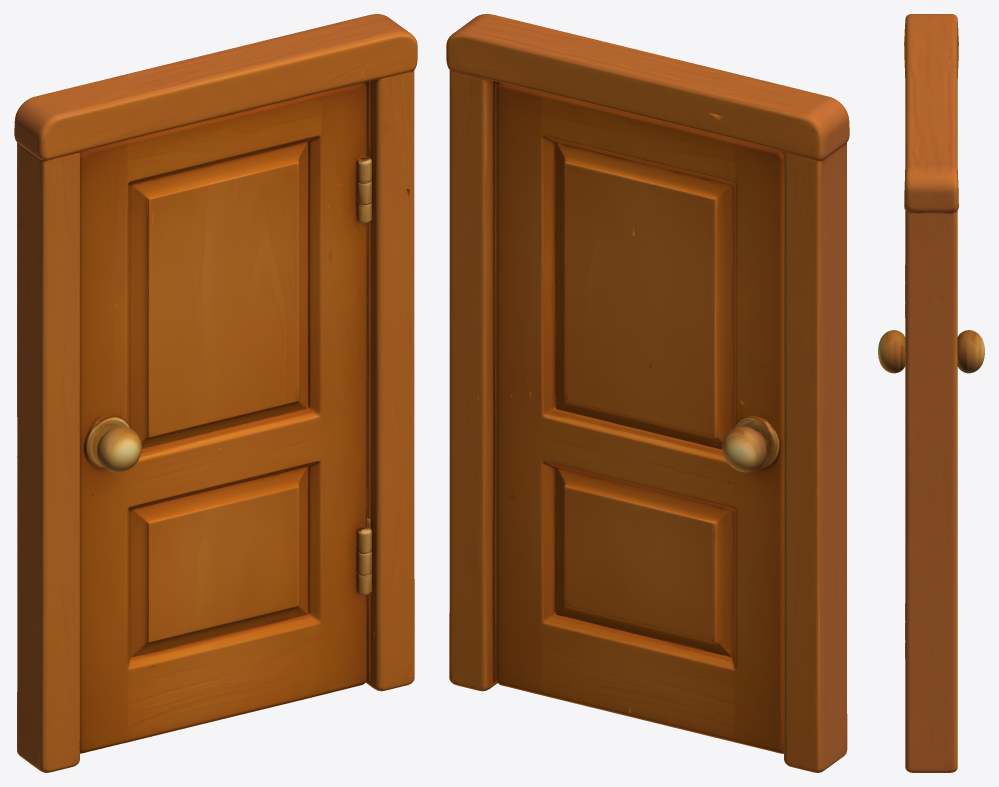
Rendered from room-door.glb.
3 renders of one model, left to right at view 1: azimuth 30°, elevation 25°; view 2: azimuth 150°, elevation 25°; view 3: azimuth 270°, elevation 25°, orthographic. The views are drawn at different scales.
Parts seen in each view (by area): view 1: node_0; view 2: node_0; view 3: node_0.
Part boxes in pixels (x1=…): node_0: x1=14, y1=14, x2=417, y2=772; node_0: x1=446, y1=14, x2=849, y2=772; node_0: x1=878, y1=14, x2=984, y2=772.
Size of the model in its own units: 0.6252 by 1.03 by 0.1671.
1 material, 1 textured.
